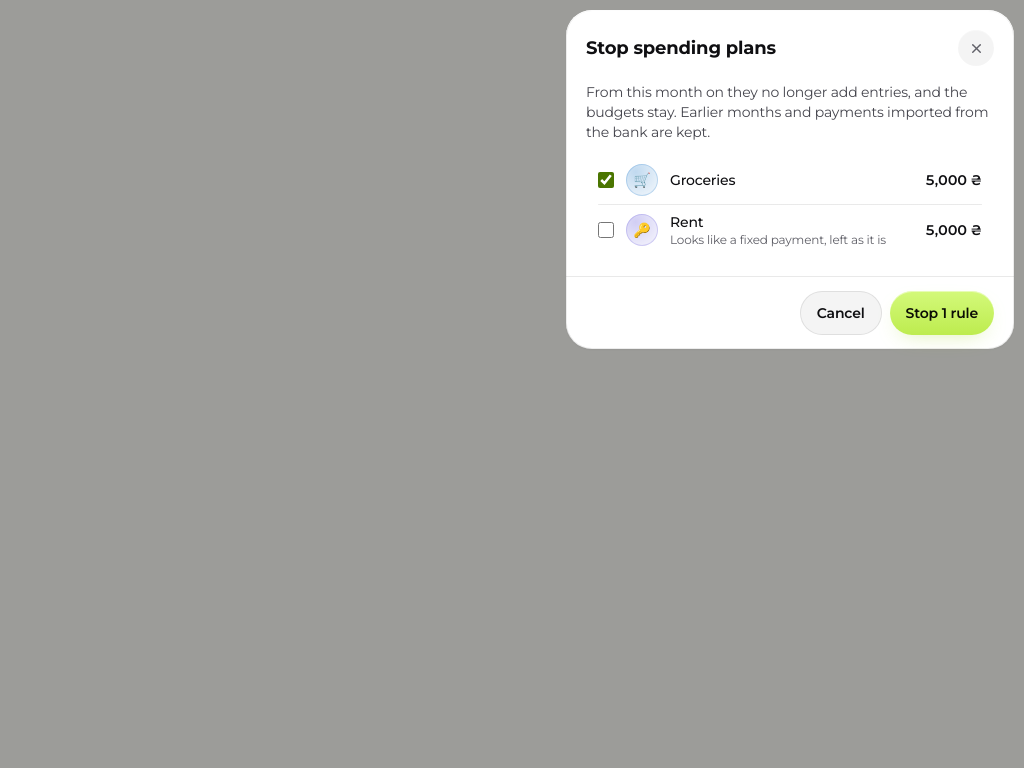
Scenario: StopPlansSheet › stops nothing when every rule is unticked
The image size is (1024, 768).
Click the checkbox labelled "🛒 Groceries 5,000 ₴" at [606, 180], box [598,172,614,188]
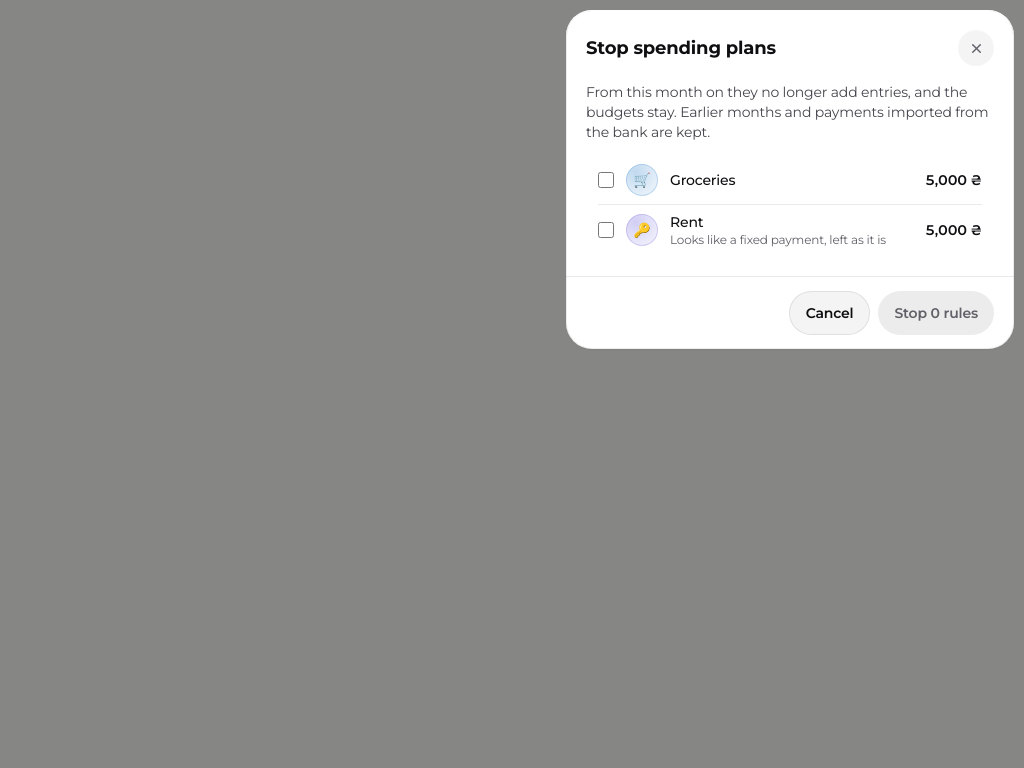
Now the button "Stop 0 rules" is disabled, box [878,291,994,335]
